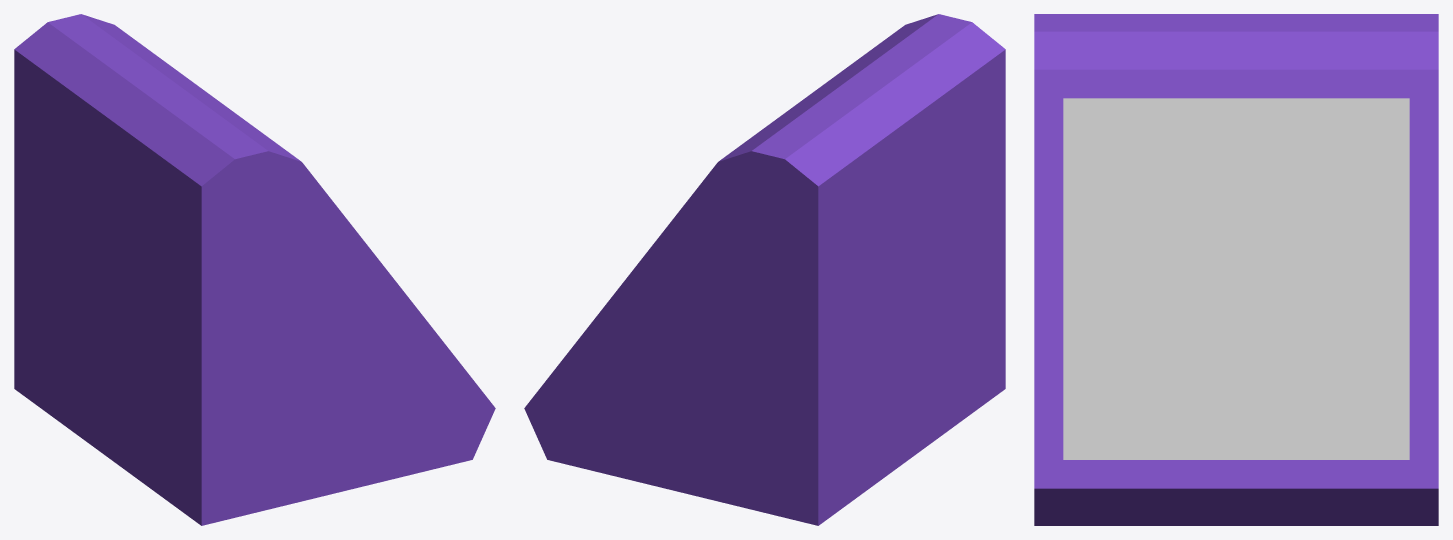
Rendered from computerTerminalFlat.fbx.
3 views of the same model, side by side, from view 1: azimuth 30°, elevation 25°; view 2: azimuth 150°, elevation 25°; view 3: azimuth 270°, elevation 25° (orthographic). The views are drawn at different scales.
Parts seen in each view (by area): view 1: Cube.001; view 2: Cube.001; view 3: Cube.001.
Part boxes in pixels (left/top/right/bottom): Cube.001: left=14, top=14, right=495, bottom=525; Cube.001: left=524, top=14, right=1005, bottom=525; Cube.001: left=1034, top=14, right=1438, bottom=525.
Size of the model in its own units: 181 by 211 by 200.
